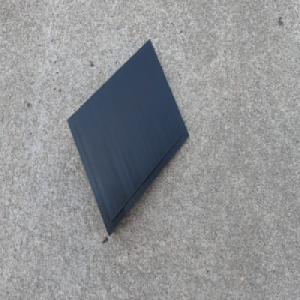PlasticPart: (66, 37, 190, 238)
